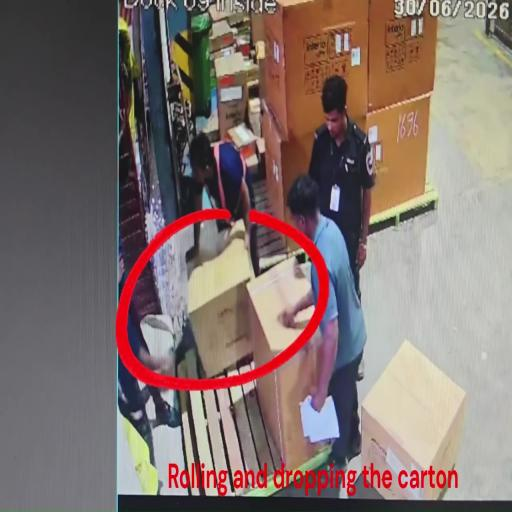carton: (246, 254, 332, 470), (359, 337, 468, 507), (258, 0, 370, 143), (262, 104, 365, 254), (186, 222, 254, 378), (366, 0, 442, 114), (364, 96, 431, 220), (218, 53, 250, 142), (224, 122, 258, 174), (211, 139, 225, 170)
pallet: (174, 363, 342, 501), (249, 167, 288, 275), (368, 191, 440, 239)
person: (278, 176, 368, 470), (308, 76, 376, 308), (118, 249, 183, 459), (180, 132, 261, 278)
